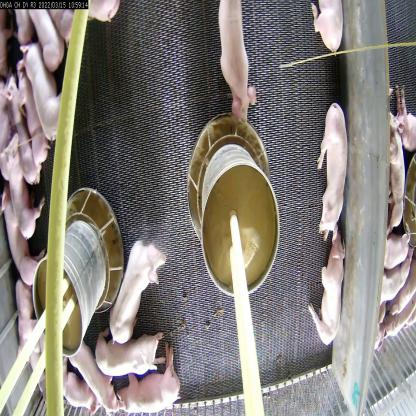Pig: (102, 238, 172, 344), (300, 221, 352, 348), (207, 0, 257, 131), (305, 96, 349, 241), (64, 325, 117, 415), (112, 360, 188, 416), (1, 198, 40, 302), (86, 328, 166, 378), (23, 36, 59, 141), (12, 63, 43, 167), (33, 5, 62, 72)
